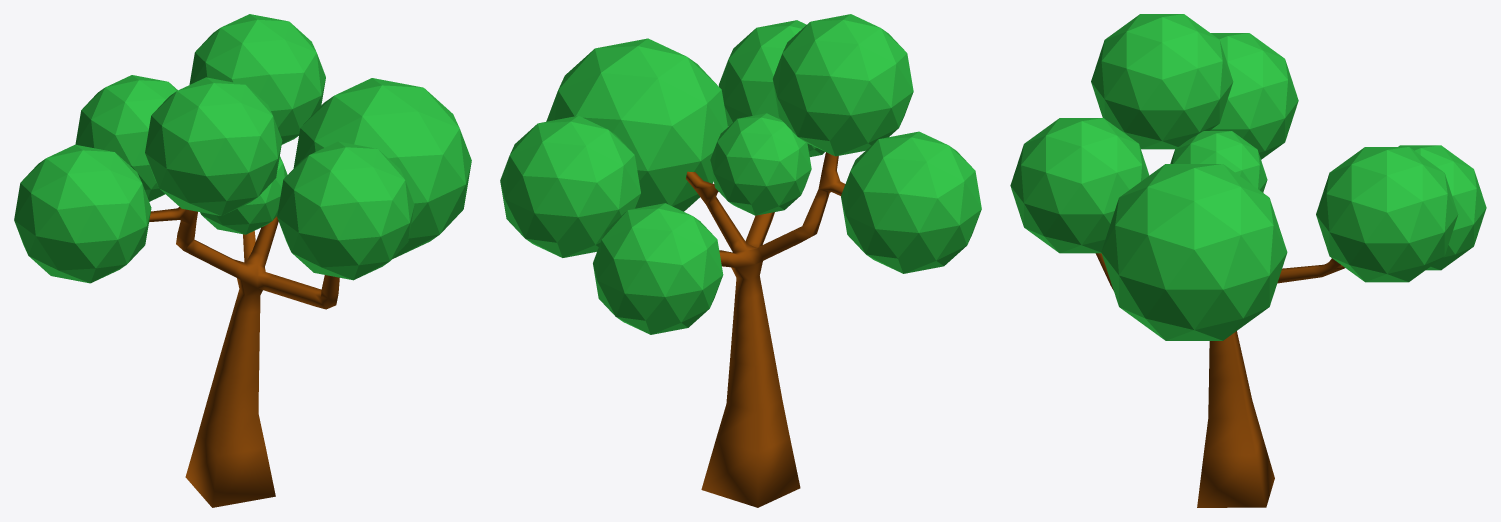
The model's file is Tree0001.fbx.
3 views of the same model, side by side, from view 1: azimuth 30°, elevation 25°; view 2: azimuth 150°, elevation 25°; view 3: azimuth 270°, elevation 25° (orthographic). The views are drawn at different scales.
Visible parts, largest first — view 1: Branch.001, Leaves.001, Leaves.002, Leaves, Leaves.003, Leaves.005, Leaves.006, Leaves.004; view 2: Branch.001, Leaves.003, Leaves, Leaves.001, Leaves.005, Leaves.006, Leaves.004, Leaves.002; view 3: Leaves.003, Leaves.005, Leaves.001, Leaves.002, Branch.001, Leaves, Leaves.006, Leaves.004.
Boxes of the visible parts, x1=… form: Branch.001: x1=149, y1=207, x2=339, y2=507; Leaves.001: x1=145, y1=77, x2=282, y2=215; Leaves.002: x1=277, y1=141, x2=414, y2=280; Leaves: x1=14, y1=144, x2=151, y2=283; Leaves.003: x1=293, y1=78, x2=471, y2=258; Leaves.005: x1=189, y1=14, x2=325, y2=144; Leaves.006: x1=75, y1=75, x2=177, y2=201; Leaves.004: x1=200, y1=156, x2=287, y2=234; Branch.001: x1=685, y1=152, x2=845, y2=507; Leaves.003: x1=546, y1=38, x2=727, y2=211; Leaves: x1=841, y1=131, x2=981, y2=273; Leaves.001: x1=772, y1=14, x2=913, y2=156; Leaves.005: x1=500, y1=115, x2=640, y2=257; Leaves.006: x1=593, y1=203, x2=723, y2=334; Leaves.004: x1=710, y1=113, x2=811, y2=215; Leaves.002: x1=718, y1=20, x2=824, y2=156; Leaves.003: x1=1101, y1=164, x2=1287, y2=340; Leaves.005: x1=1316, y1=147, x2=1458, y2=282; Leaves.001: x1=1091, y1=14, x2=1233, y2=149; Leaves.002: x1=1010, y1=118, x2=1149, y2=253; Branch.001: x1=1095, y1=253, x2=1344, y2=507; Leaves: x1=1210, y1=33, x2=1298, y2=159; Leaves.006: x1=1398, y1=145, x2=1486, y2=270; Leaves.004: x1=1170, y1=131, x2=1267, y2=192.
Bounding box in the file's own units: 485 × 496 × 474.
